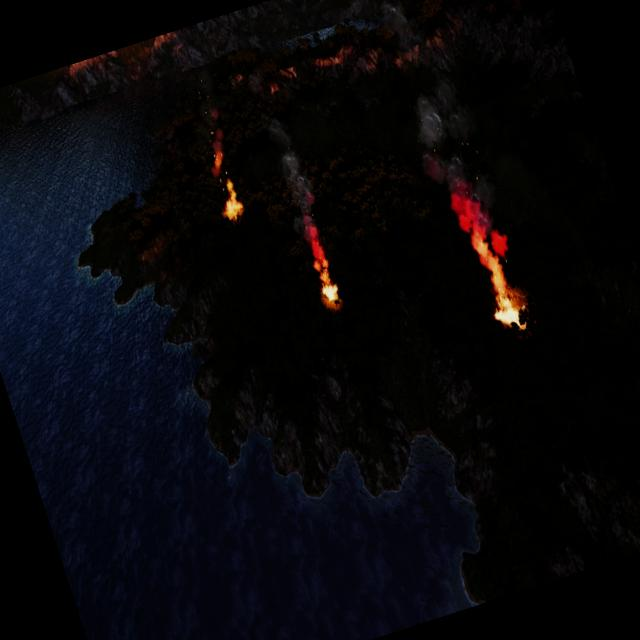fire: (487, 288, 528, 336), (218, 181, 246, 221), (319, 276, 344, 308)
smoke: (398, 73, 528, 299), (260, 112, 342, 282), (184, 68, 240, 180), (379, 0, 424, 58)
